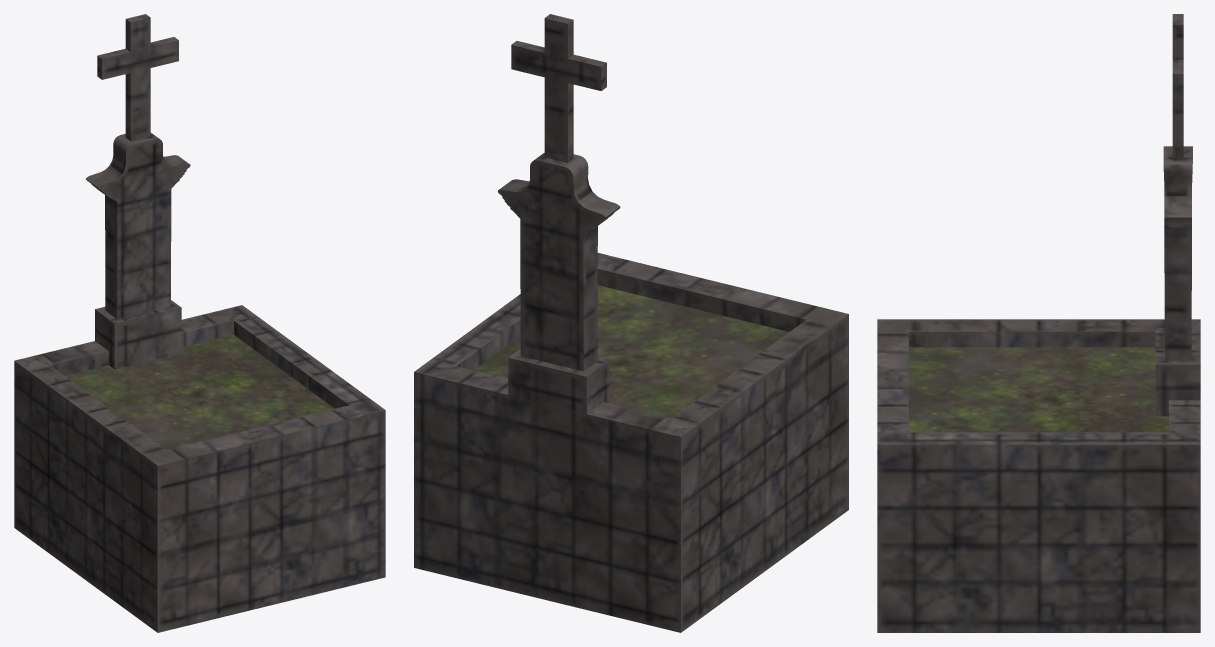
File: Tombstone with cross.fbx
3 views of the same model, side by side, from view 1: azimuth 30°, elevation 25°; view 2: azimuth 150°, elevation 25°; view 3: azimuth 270°, elevation 25° (orthographic). The views are drawn at different scales.
Parts seen in each view (by area): view 1: Cube; view 2: Cube; view 3: Cube.
Boxes of the visible parts, x1,y1,x2,y2 form: Cube: [14, 14, 385, 632]; Cube: [414, 14, 848, 632]; Cube: [877, 14, 1200, 632].
Bounding box in the file's own units: 200 × 410 × 218.
